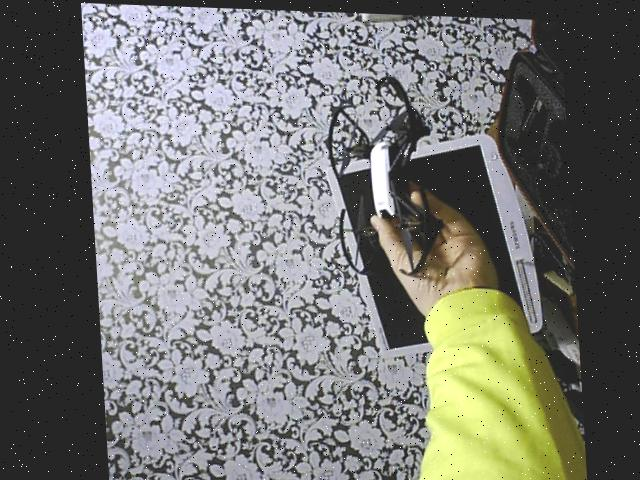drone: (310, 67, 447, 279)
